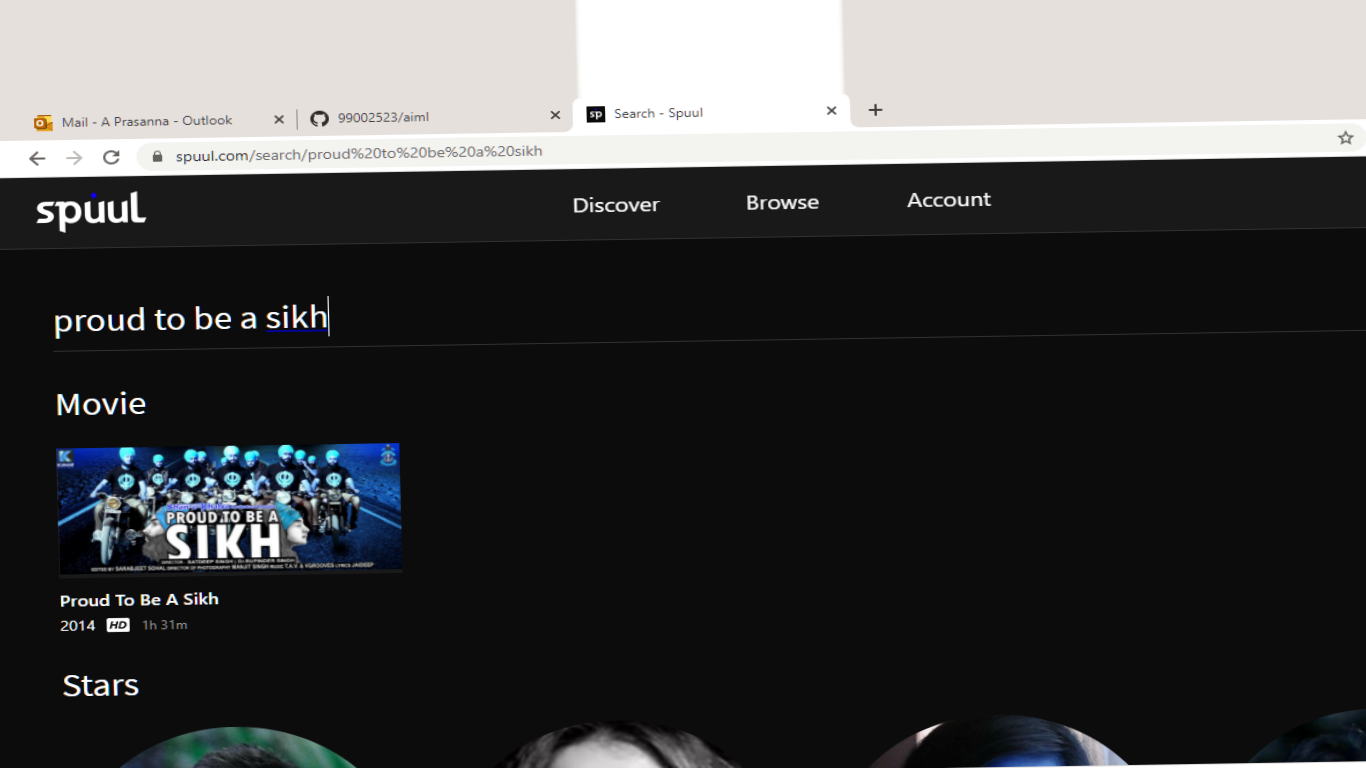myaccountbutton: (883, 157, 1035, 234)
resultsfound: (42, 378, 334, 440)
searchtextbox: (35, 286, 1344, 355)
